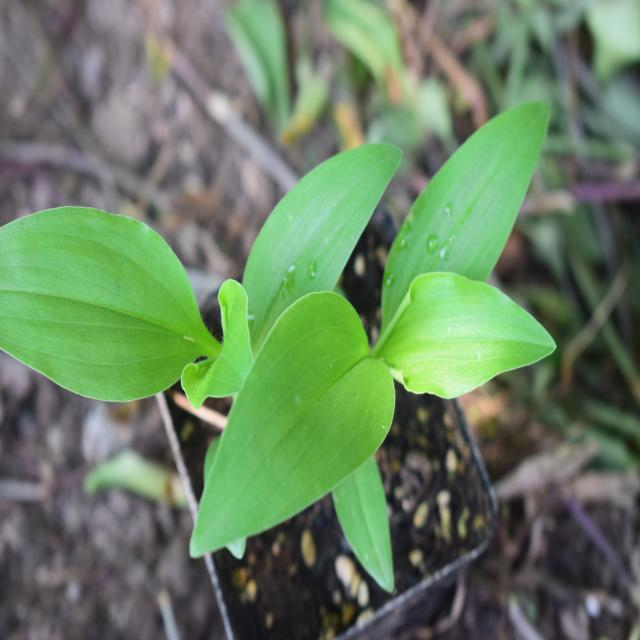Common Dayflower: (176, 124, 568, 533), (0, 189, 186, 431)
